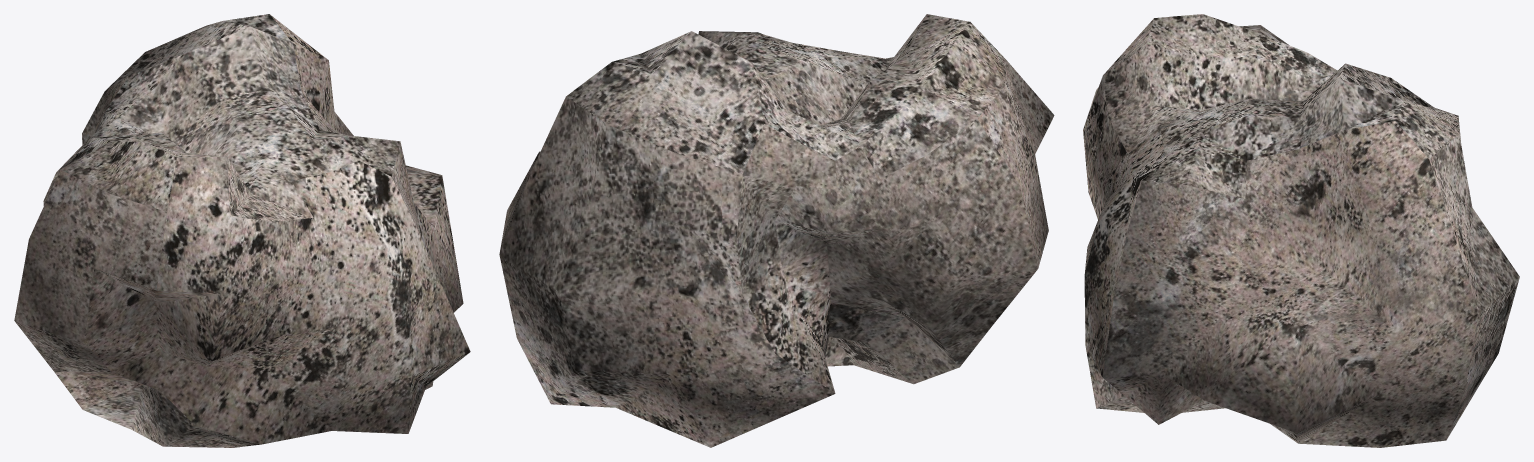
Rendered from Rock_5x5_A.FBX.
3 renders of one model, left to right at view 1: azimuth 30°, elevation 25°; view 2: azimuth 150°, elevation 25°; view 3: azimuth 270°, elevation 25°, orthographic. The views are drawn at different scales.
Visible parts, largest first — view 1: Rock_5x5_A; view 2: Rock_5x5_A; view 3: Rock_5x5_A.
Boxes of the visible parts, bbox=[...] form: Rock_5x5_A: bbox=[14, 14, 470, 447]; Rock_5x5_A: bbox=[499, 14, 1054, 447]; Rock_5x5_A: bbox=[1083, 14, 1519, 447].
Size of the model in its own units: 6.69 by 4.8 by 5.78.
Materials: 1 (1 with a texture image).
